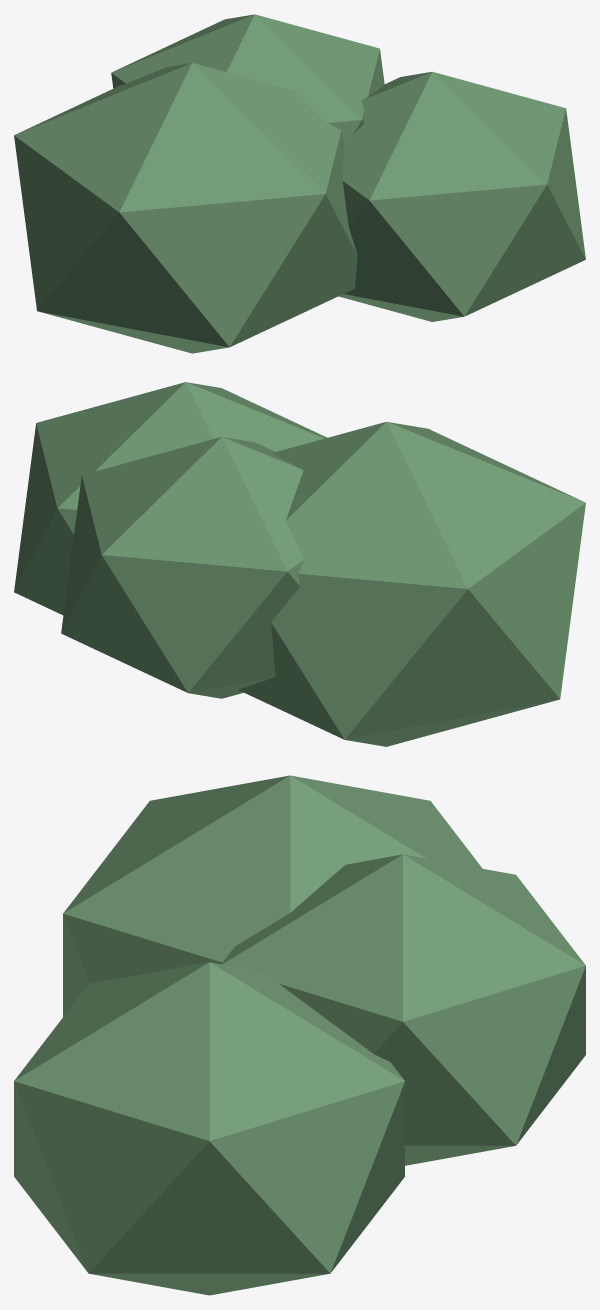
File: veg-bush-b.glb
3 views of the same model, one above another, from view 1: azimuth 30°, elevation 25°; view 2: azimuth 150°, elevation 25°; view 3: azimuth 270°, elevation 25° (orthographic). The views are drawn at different scales.
Visible parts, largest first — view 1: bush; view 2: bush; view 3: bush.
Boxes of the visible parts, <box> form: bush: <box>14,14,585,353</box>; bush: <box>14,382,585,746</box>; bush: <box>14,775,585,1295</box>.
Bounding box in the file's own units: 2.38 × 1.32 × 1.77.
